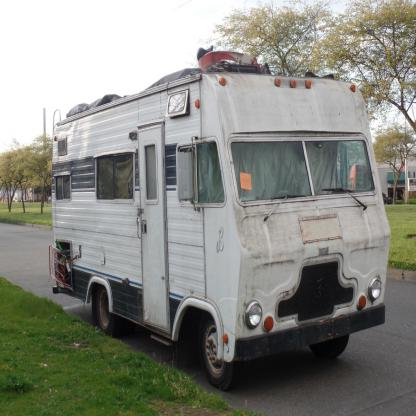Truck: (48, 46, 391, 388)
